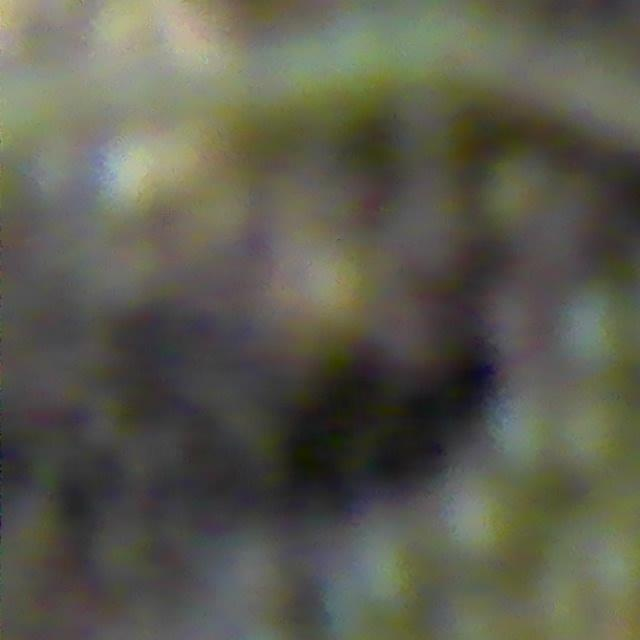SeaGrape: (326, 533, 426, 633), (436, 476, 526, 565), (551, 280, 638, 371), (496, 383, 564, 476), (563, 522, 640, 603), (570, 410, 640, 483)
